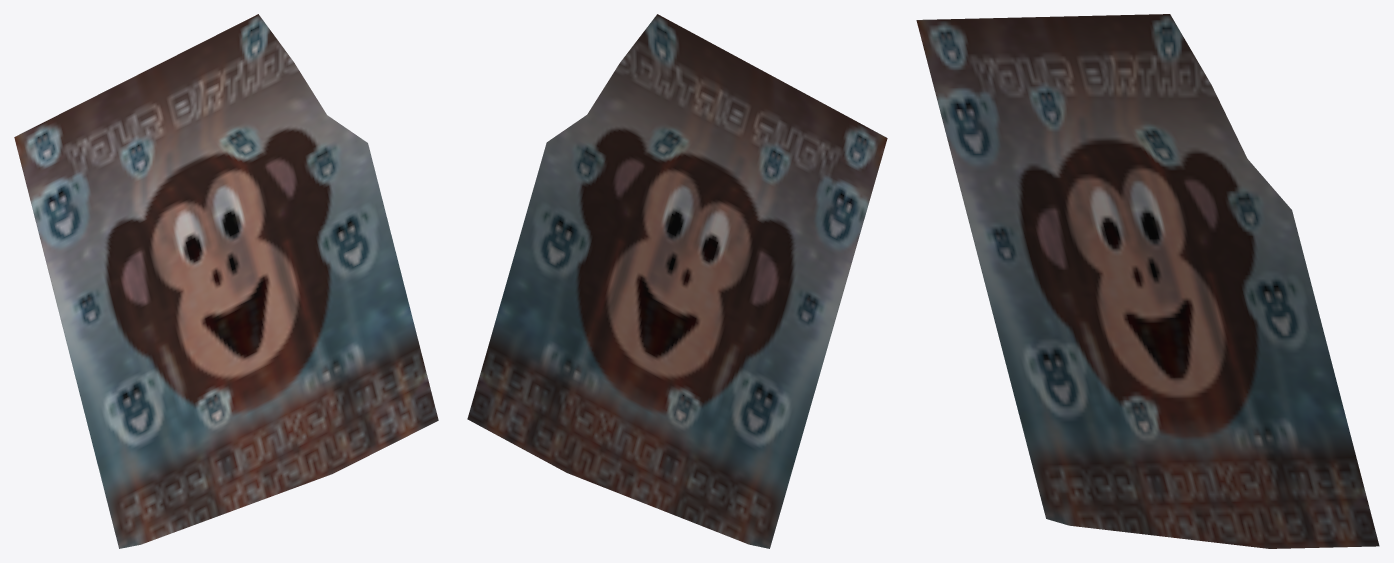
The model's file is Poster01.fbx.
The picture shows the model from 3 angles, left to right: view 1: azimuth 30°, elevation 25°; view 2: azimuth 150°, elevation 25°; view 3: azimuth 330°, elevation 25°; orthographic projection. The views are drawn at different scales.
Parts seen in each view (by area): view 1: Empty_Mesh; view 2: Empty_Mesh; view 3: Empty_Mesh.
Part boxes in pixels (x1=…): Empty_Mesh: x1=14, y1=14, x2=438, y2=548; Empty_Mesh: x1=467, y1=14, x2=887, y2=548; Empty_Mesh: x1=916, y1=14, x2=1379, y2=548.
Bounding box in the file's own units: 209 × 238 × 9.79.
